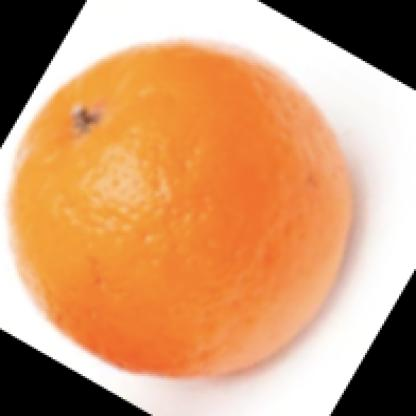fresh: (10, 42, 350, 380)
